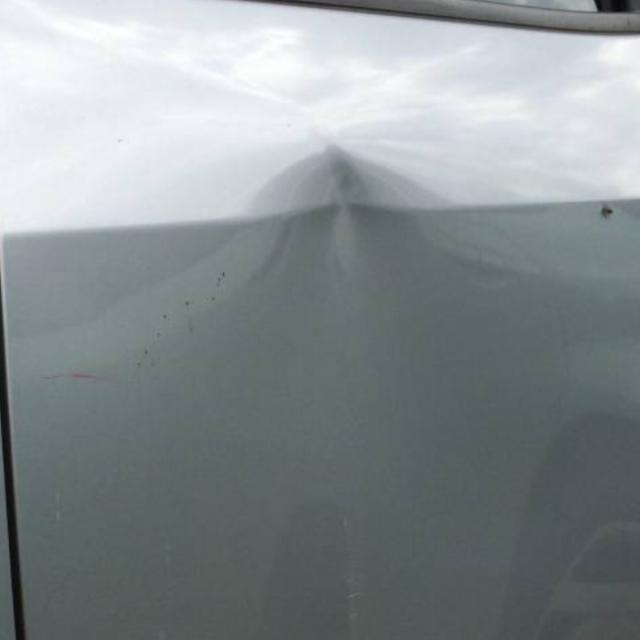dents: (221, 100, 486, 379)
